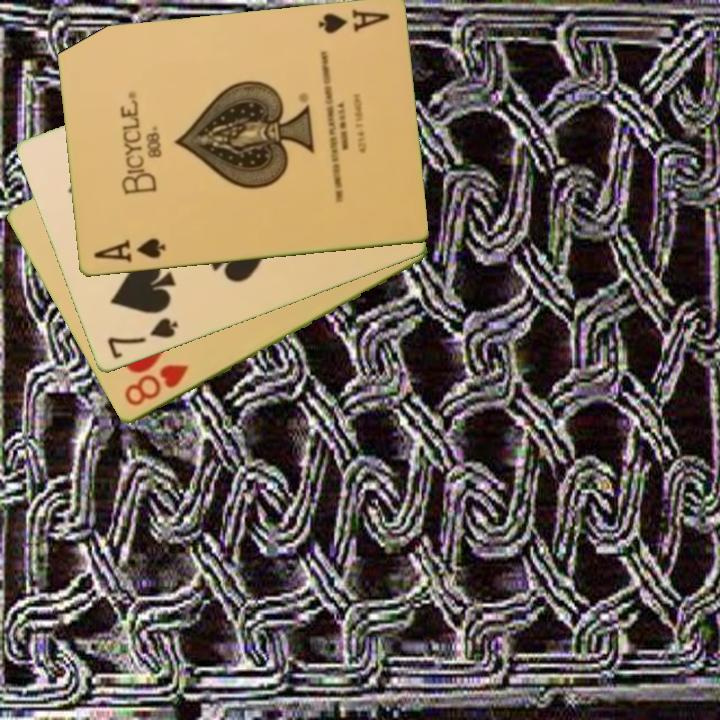7s: (104, 314, 181, 362)
8h: (120, 361, 192, 410)
As: (314, 6, 392, 38), (90, 235, 168, 266)
